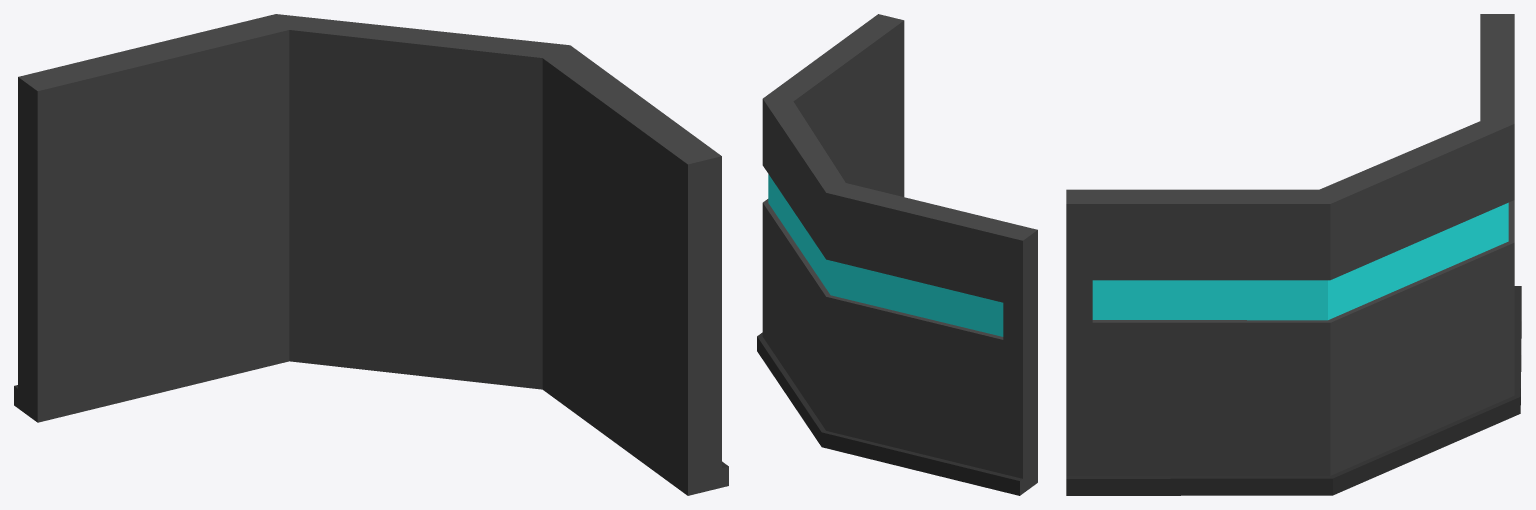
Rendered from Corner 1.fbx.
The picture shows the model from 3 angles, left to right: view 1: azimuth 30°, elevation 25°; view 2: azimuth 150°, elevation 25°; view 3: azimuth 270°, elevation 25°; orthographic projection. The views are drawn at different scales.
Visible parts, largest first — view 1: pCube5; view 2: pCube5; view 3: pCube5.
Part boxes in pixels (x1,y1,x2,y2): pCube5: [14, 14, 728, 495]; pCube5: [757, 14, 1037, 495]; pCube5: [1066, 14, 1521, 495].
Bounding box in the file's own units: 11.49 × 8.02 × 11.46.
